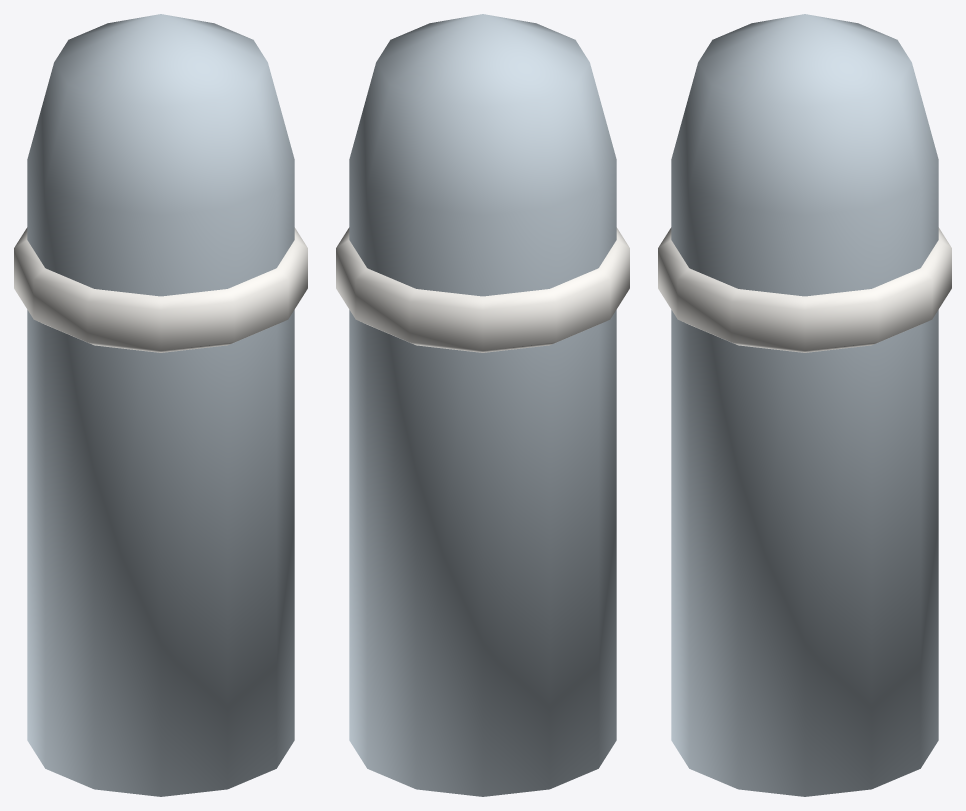
File: bollard.glb
3 views of the same model, side by side, from view 1: azimuth 30°, elevation 25°; view 2: azimuth 150°, elevation 25°; view 3: azimuth 270°, elevation 25° (orthographic).
Parts seen in each view (by area): view 1: main; view 2: main; view 3: main.
Boxes of the visible parts, x1=… form: main: x1=14, y1=14, x2=307, y2=796; main: x1=336, y1=14, x2=629, y2=796; main: x1=658, y1=14, x2=951, y2=796.
Bounding box in the file's own units: 0.33 × 0.9 × 0.33.
